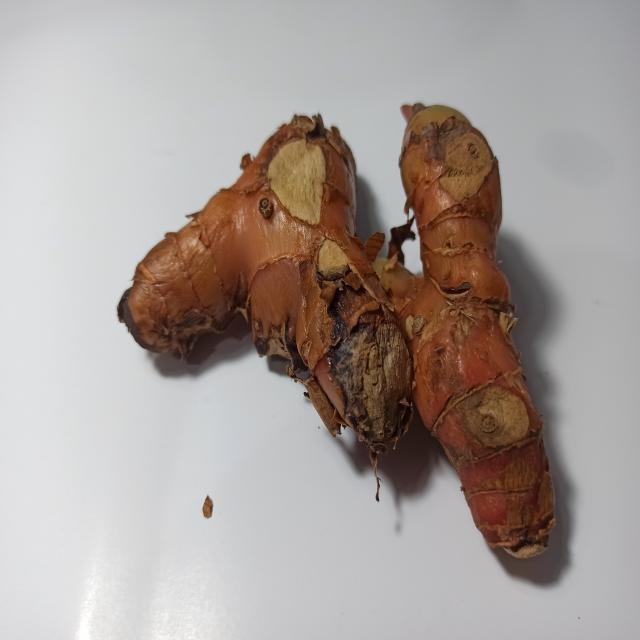ginger: (114, 102, 570, 547)
